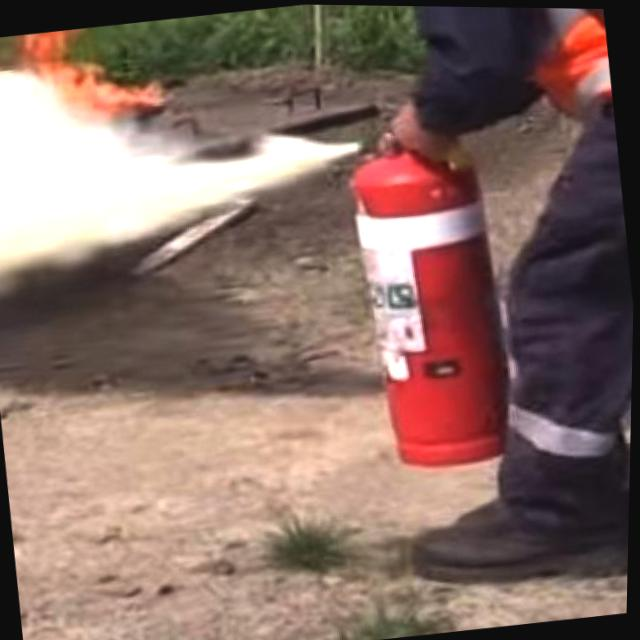FireExtinguisher: (314, 66, 534, 481)
